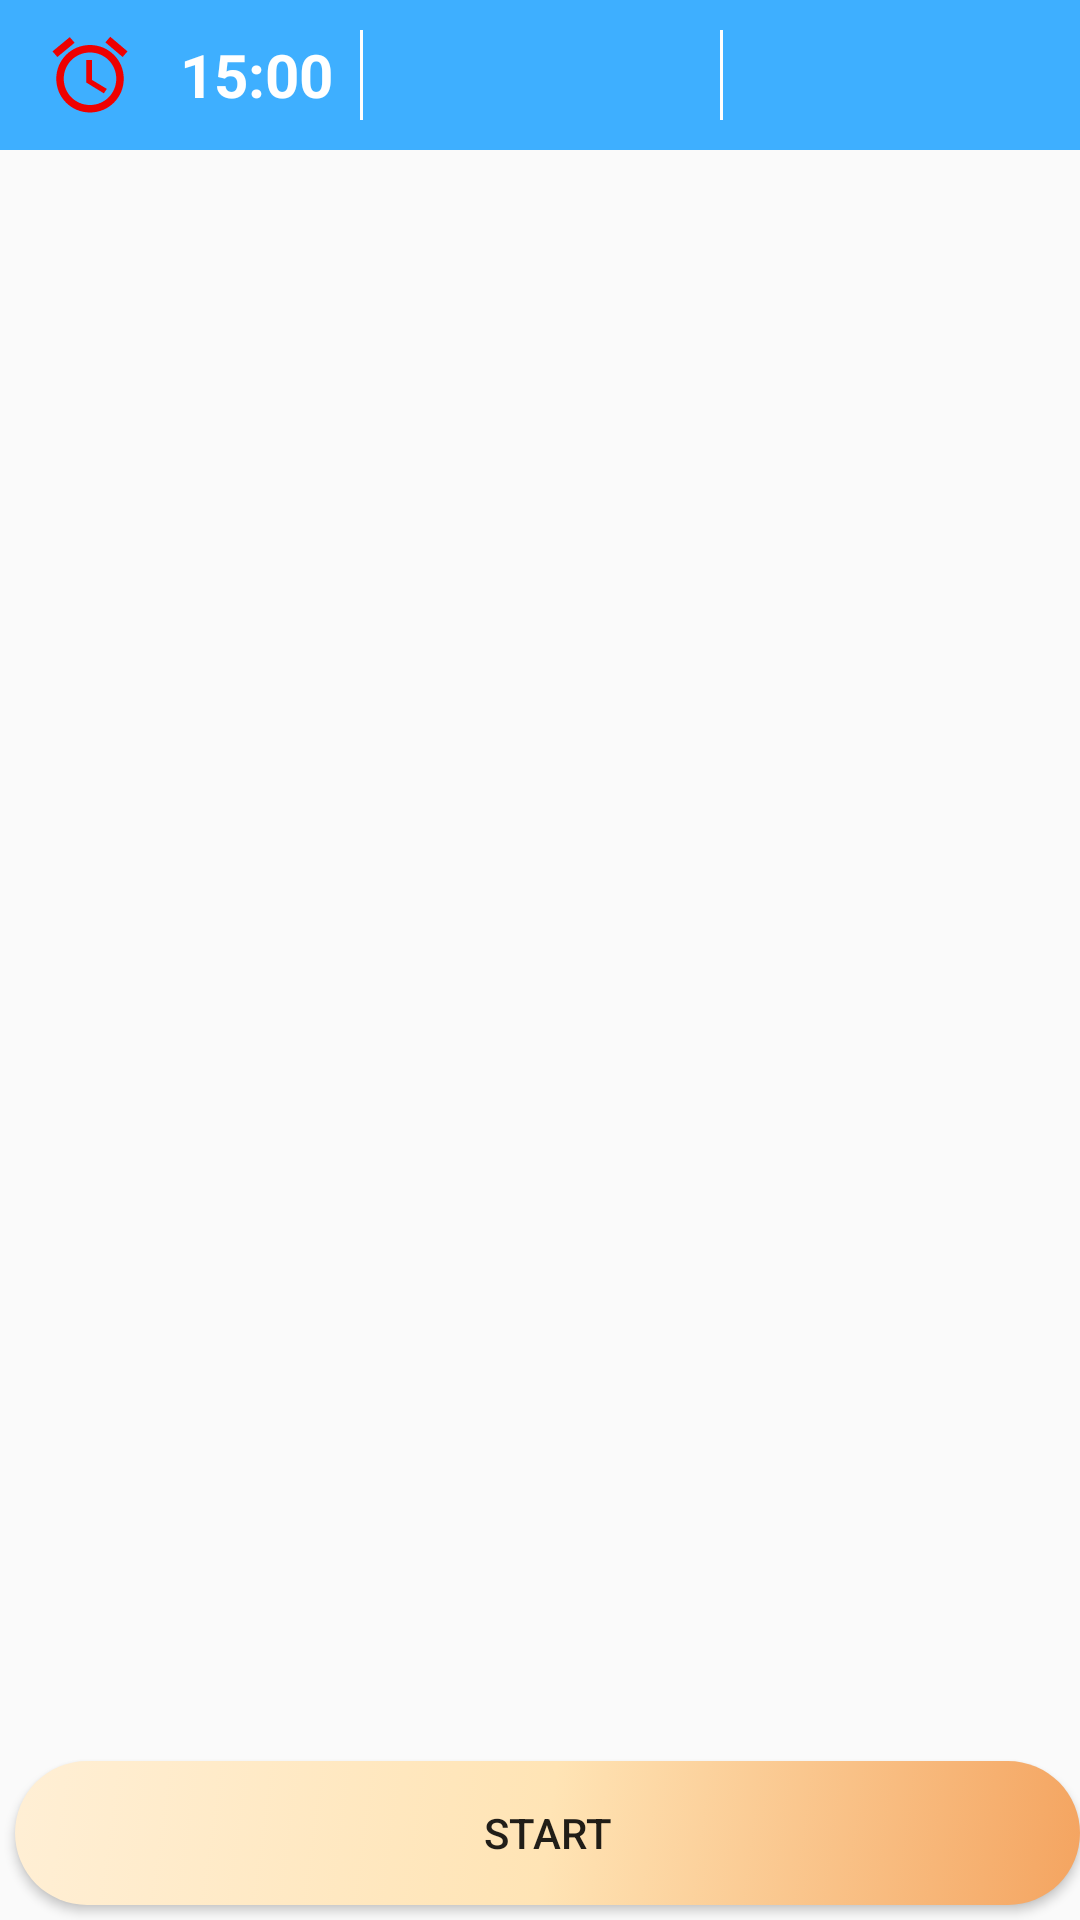

Screen size 1080 × 1920. Icon name, then its center in pixels as (x=x, y=y):
clock: (x=90, y=75)
